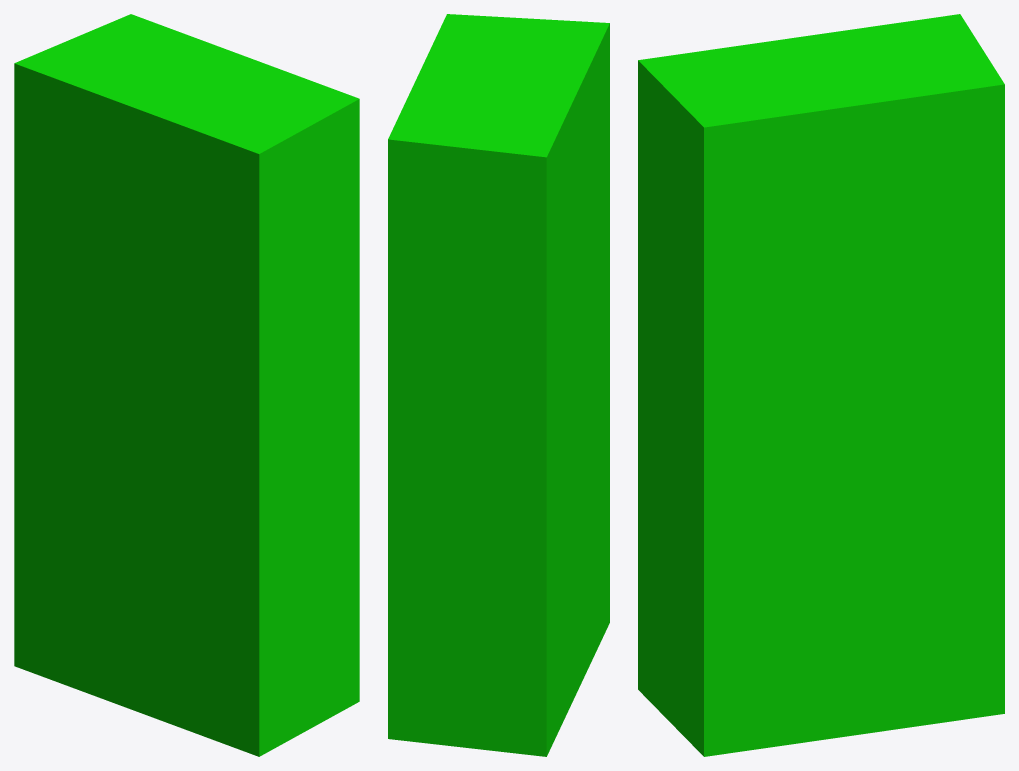
The picture shows the model from 3 angles, left to right: view 1: azimuth 30°, elevation 25°; view 2: azimuth 150°, elevation 25°; view 3: azimuth 270°, elevation 25°; orthographic projection. The views are drawn at different scales.
Parts seen in each view (by area): view 1: Circle.001; view 2: Circle.001; view 3: Circle.001.
Part boxes in pixels (<box>): Circle.001: <box>14,14,359,756</box>; Circle.001: <box>388,14,609,756</box>; Circle.001: <box>638,14,1004,756</box>.
Size of the model in its own units: 791 by 2044 by 1080.
